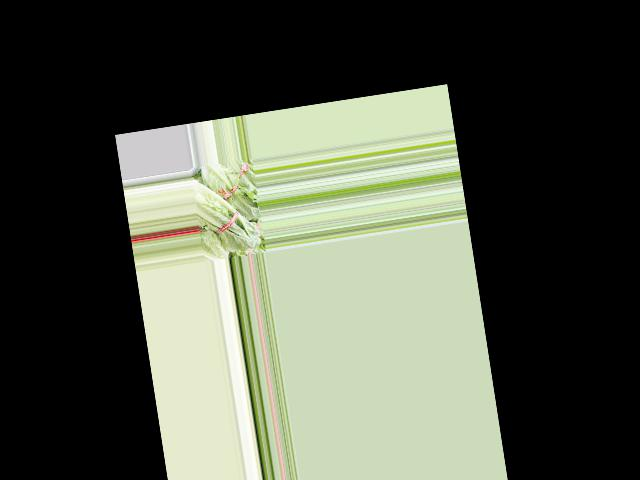lettuce: (191, 172, 263, 257)
